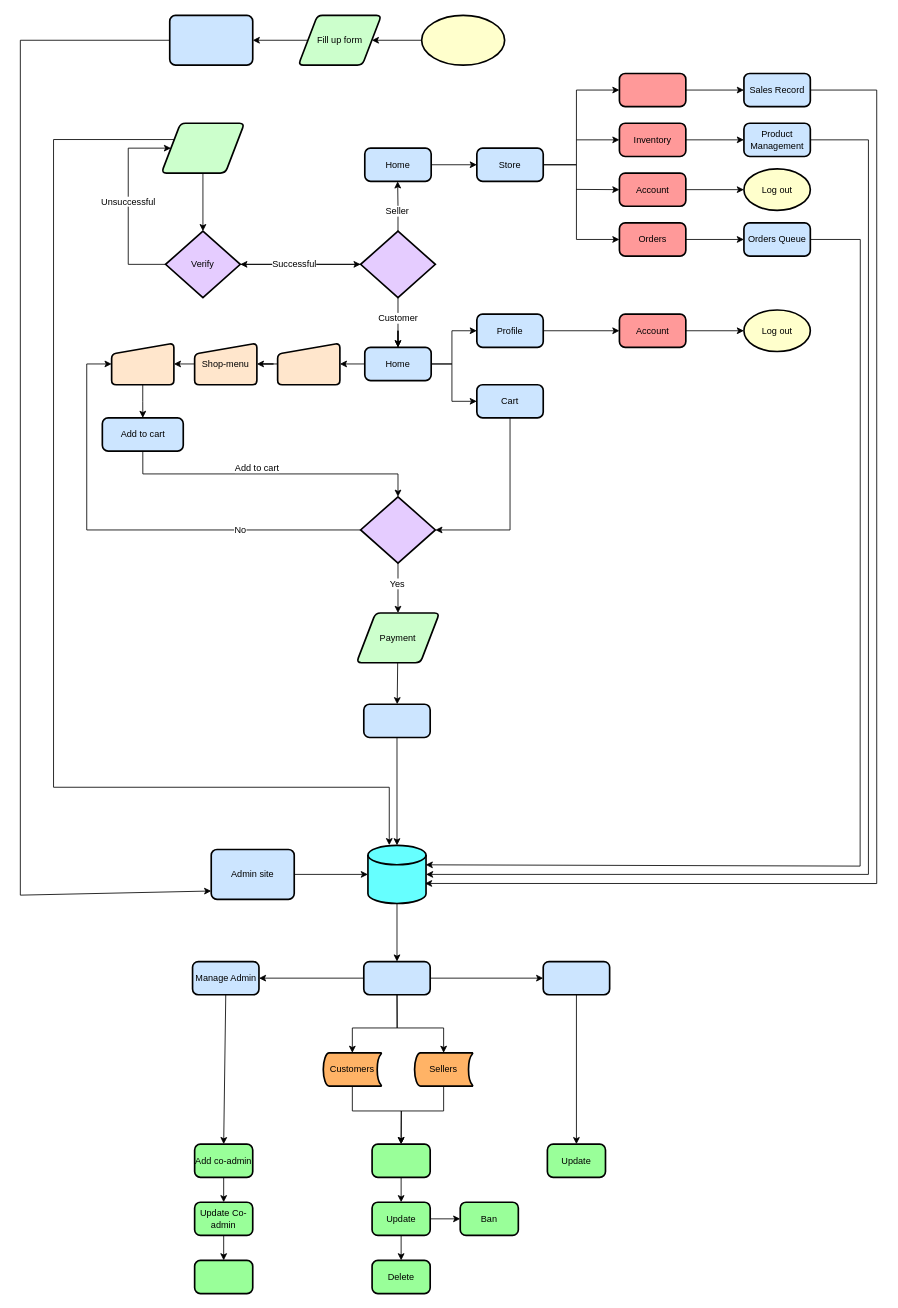
Some shapes in this 898 by 1308 pixel diagram are drawn without their labels. Here are the shapes that lost their labels. From the top down, the centre of each, then its label:
At point 210,40: "Register".
At point 462,40: "Start".
At point 652,89: "Dashboard".
At point 202,147: "Login".
At point 397,264: "Seller or Customer".
At point 142,363: "Products".
At point 308,363: "Categories".
At point 397,530: "Check out".
At point 397,720: "Receipt".
At point 396,874: "Database".
At point 397,977: "Manage Users".
At point 576,977: "Manage Shops".
At point 401,1160: "Add".
At point 223,1276: "Delete Co-admin".
